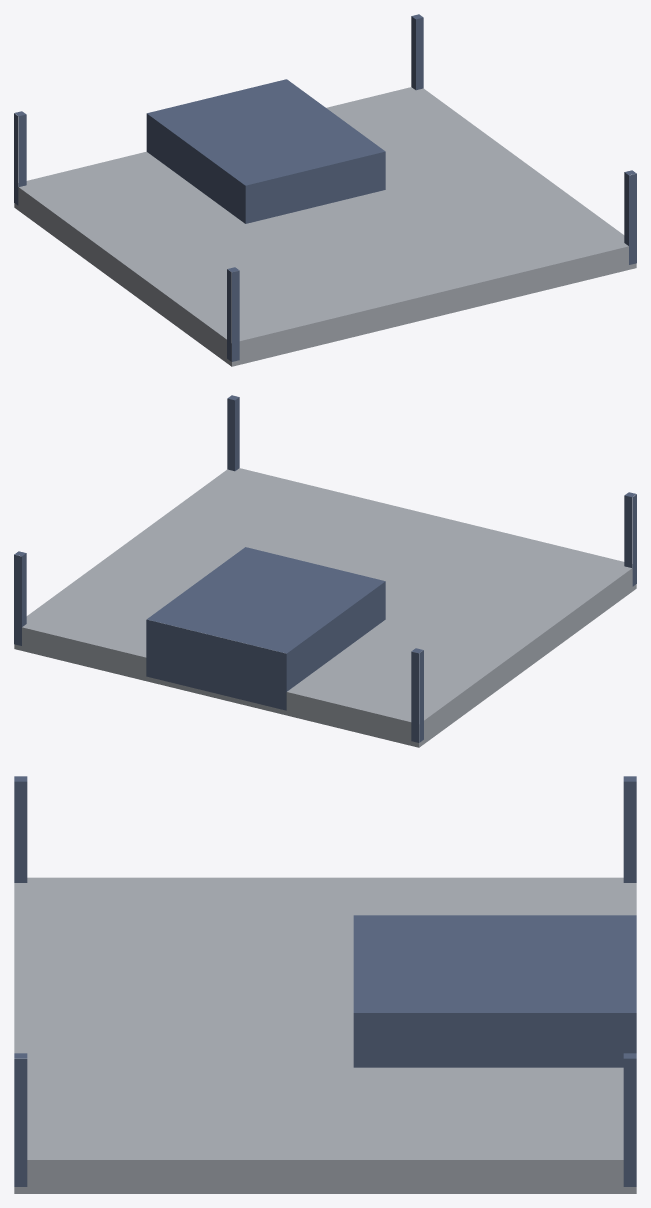
File: office-roof-a.zfix-v11.lod2.glb
3 views of the same model, one above another, from view 1: azimuth 30°, elevation 25°; view 2: azimuth 150°, elevation 25°; view 3: azimuth 270°, elevation 25° (orthographic). The views are drawn at different scales.
Visible parts, largest first — view 1: office-roof-a; view 2: office-roof-a; view 3: office-roof-a.
Boxes of the visible parts, left/top/right/bottom form: office-roof-a: left=14, top=14, right=636, bottom=366; office-roof-a: left=14, top=395, right=636, bottom=747; office-roof-a: left=14, top=776, right=636, bottom=1193.
Size of the model in its own units: 26.03 by 5.8 by 24.23.
